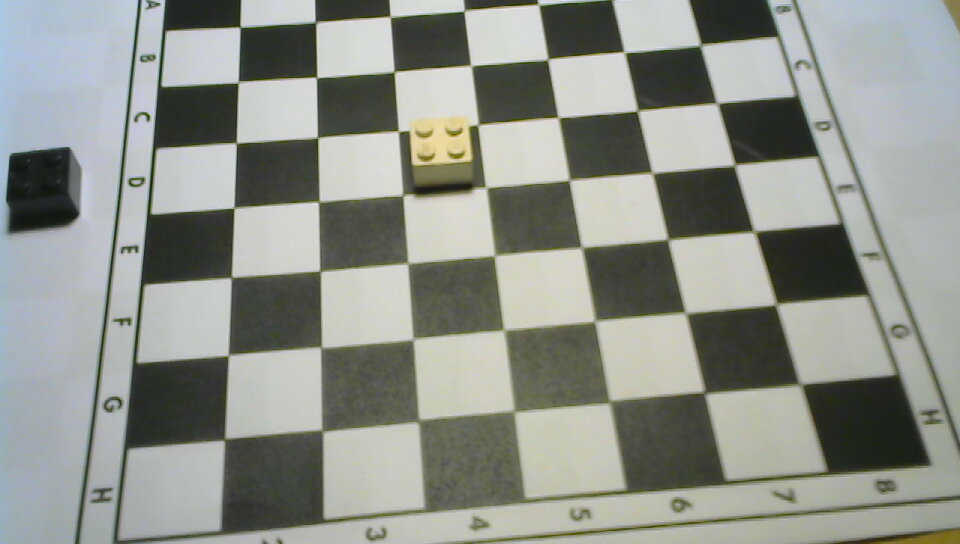wp: (404, 112, 487, 196)
